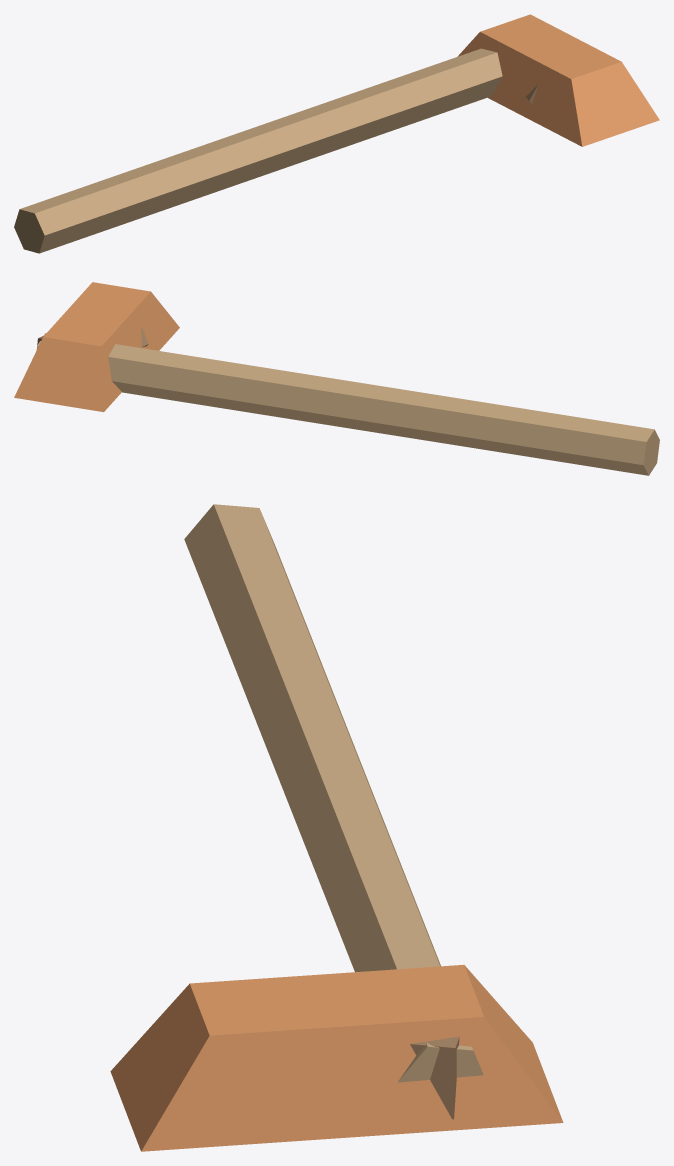
The model's file is item_082_copper_axe_s.glb.
The picture shows the model from 3 angles, top to bottom: view 1: azimuth 30°, elevation 25°; view 2: azimuth 150°, elevation 25°; view 3: azimuth 270°, elevation 25°; orthographic projection. The views are drawn at different scales.
Parts seen in each view (by area): view 1: item_082_copper_axe_s; view 2: item_082_copper_axe_s; view 3: item_082_copper_axe_s.
Part boxes in pixels (x1,y1,x2,y2): item_082_copper_axe_s: [14, 14, 659, 253]; item_082_copper_axe_s: [14, 282, 659, 475]; item_082_copper_axe_s: [110, 504, 563, 1151].
Size of the model in its own units: 0.6339 by 0.0594 by 0.2118.
